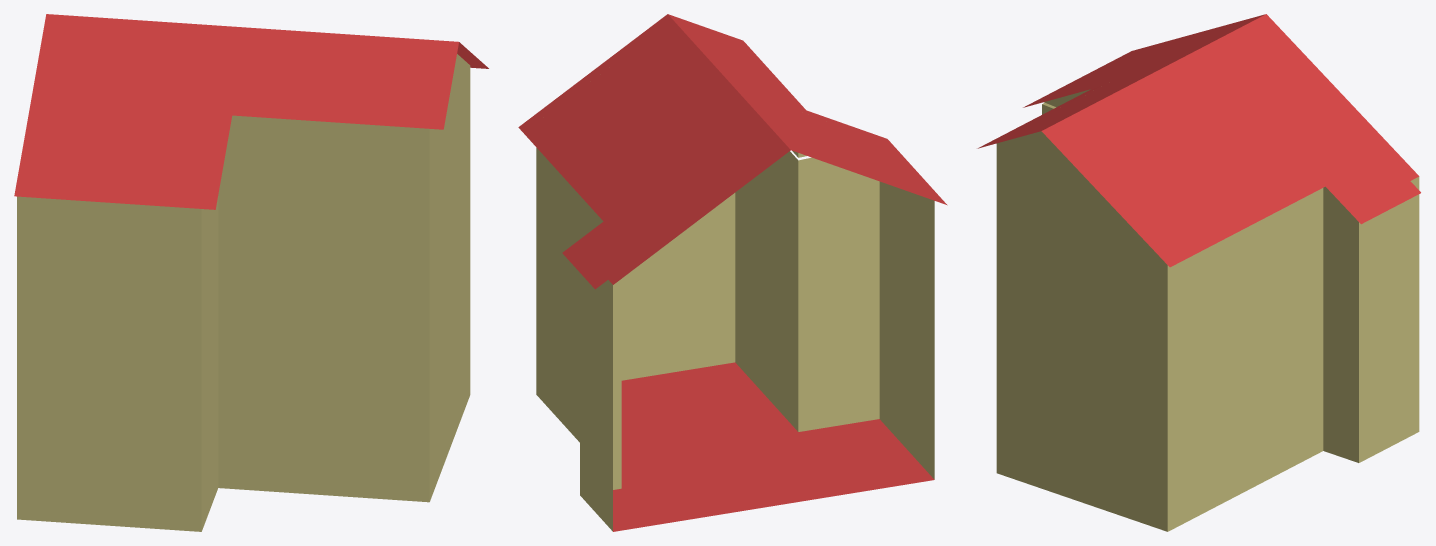
3 renders of one model, left to right at view 1: azimuth 30°, elevation 25°; view 2: azimuth 150°, elevation 25°; view 3: azimuth 270°, elevation 25°, orthographic. The views are drawn at different scales.
Size of the model in its own units: 17.06 by 15.47 by 14.01.
